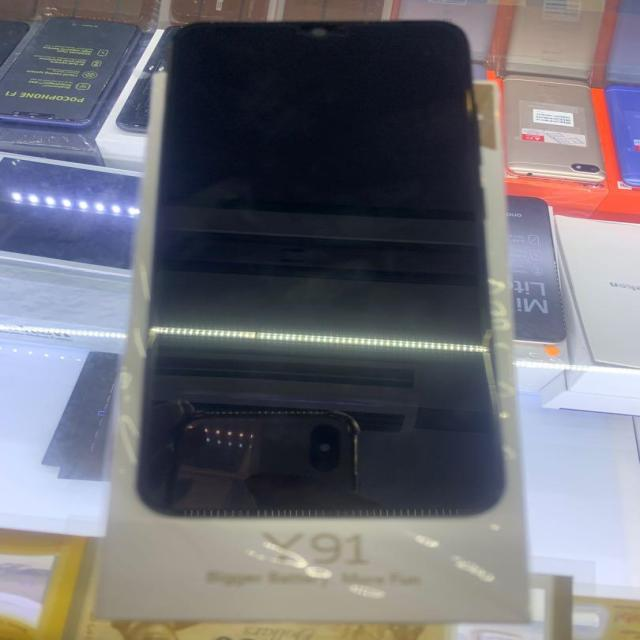mobile phone: (92, 19, 531, 624), (0, 15, 143, 128), (551, 212, 638, 369), (501, 74, 607, 183), (39, 349, 122, 482), (493, 0, 613, 84)
